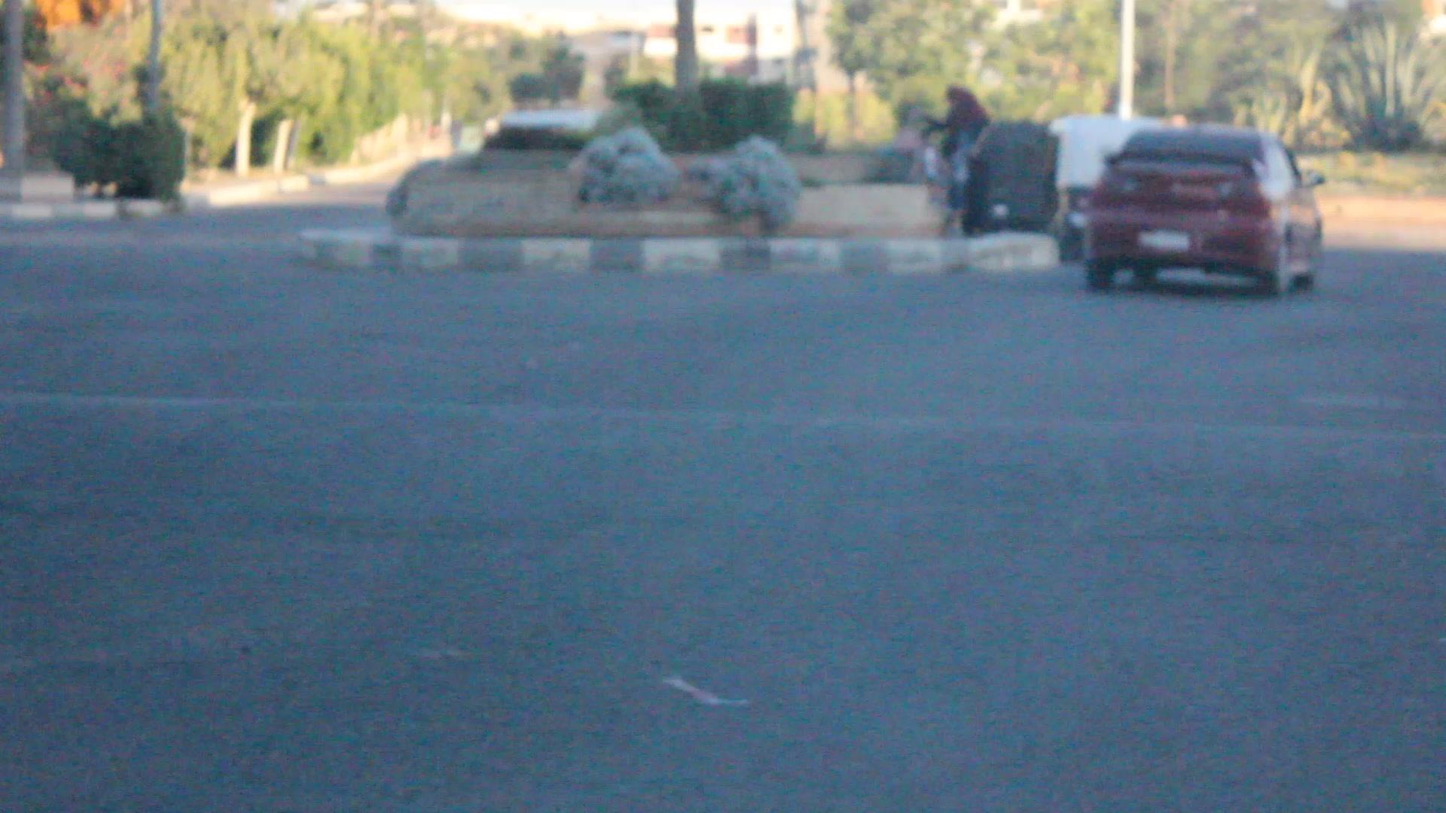Bump: (15, 382, 1446, 555)
